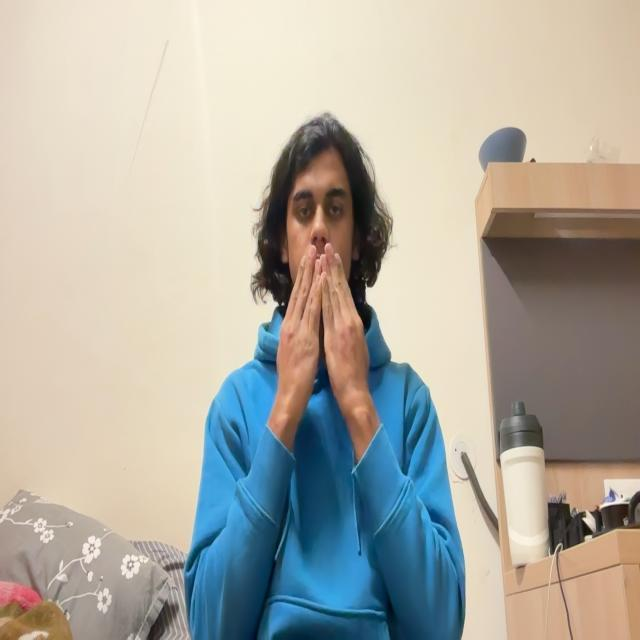Thanks: (272, 243, 382, 433)
